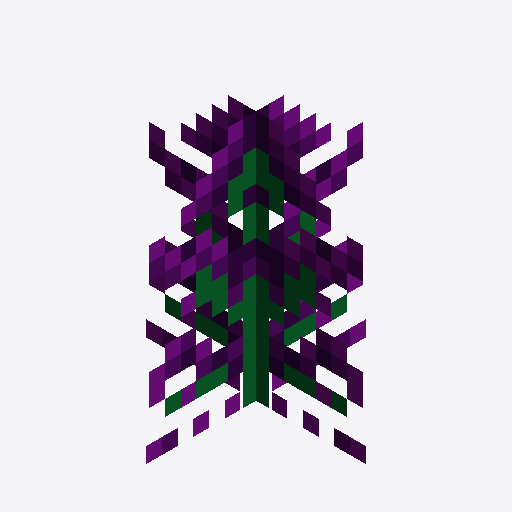
A Minecraft block model of 86 cuboids, rendered isometrically (azimuth 45°, elevation 35.3°) with the resource pack's own textures.
Visible parts, largest first — TopStalk (×2), element 4, element 47, element 18, element 65, element 19, element 66, element 38, element 79, element 40, element 75, element 17 (+27 smaller).
Part boxes in pixels (bbox=[...]): TopStalk (×2): bbox=[243, 104, 268, 407]; element 4: bbox=[269, 119, 283, 217]; element 47: bbox=[228, 119, 242, 217]; element 18: bbox=[284, 236, 299, 316]; element 65: bbox=[212, 236, 227, 316]; element 19: bbox=[300, 227, 315, 307]; element 66: bbox=[196, 227, 211, 307]; element 38: bbox=[269, 336, 299, 389]; element 79: bbox=[212, 336, 242, 389]; element 40: bbox=[316, 327, 346, 380]; element 75: bbox=[165, 327, 195, 380]; element 17: bbox=[269, 246, 283, 325].
Bounding box in the file's own units: 14 × 16 × 14.